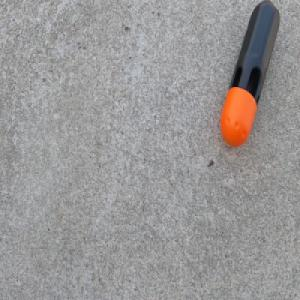PlasticPart: (217, 0, 279, 150)
